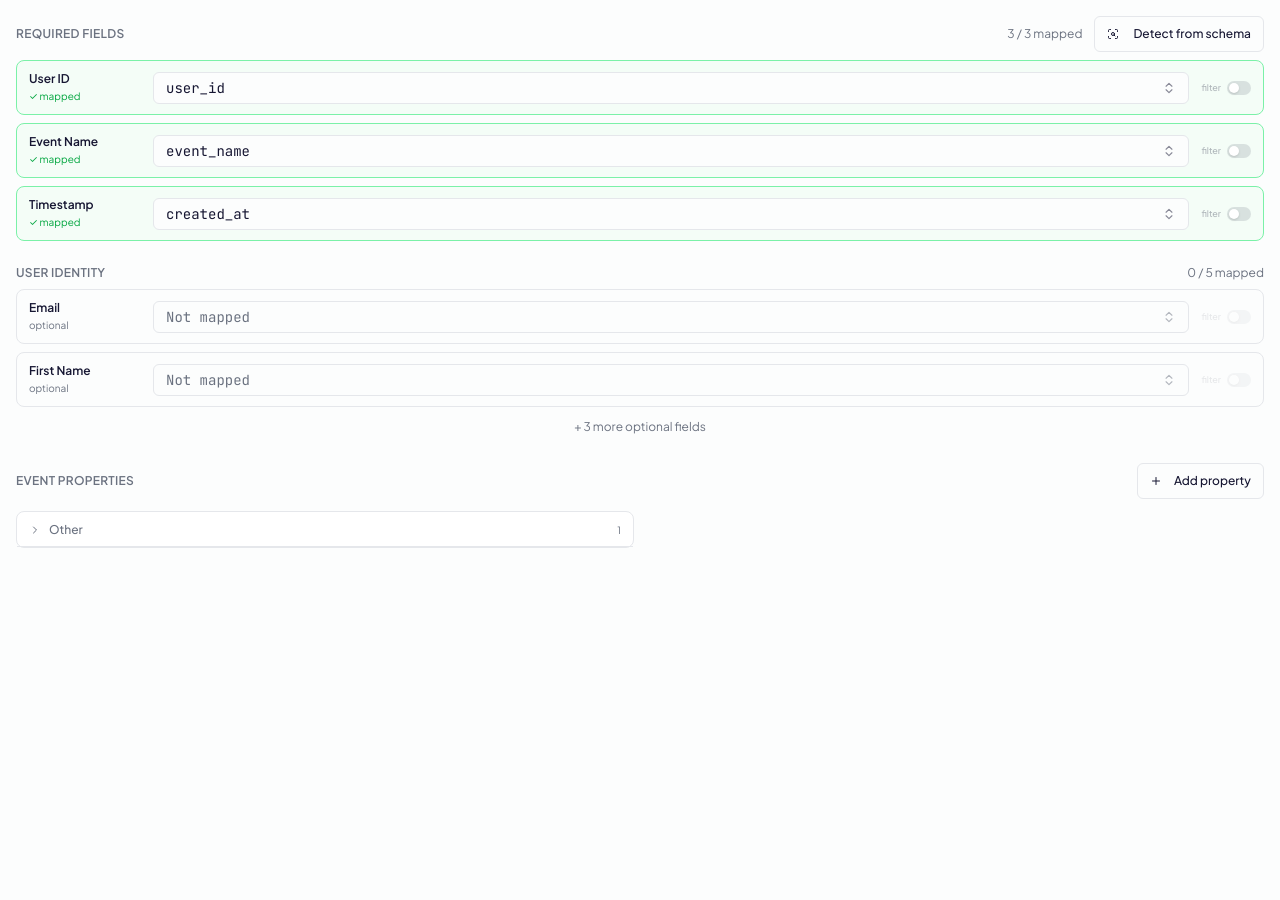
it: FieldMapStep › renders props with no category in an "Other" card (collapsed by default)
Collapsed by default — expand it first
Click the text "Other": (66, 530) x1=49 y1=522 x2=83 y2=538
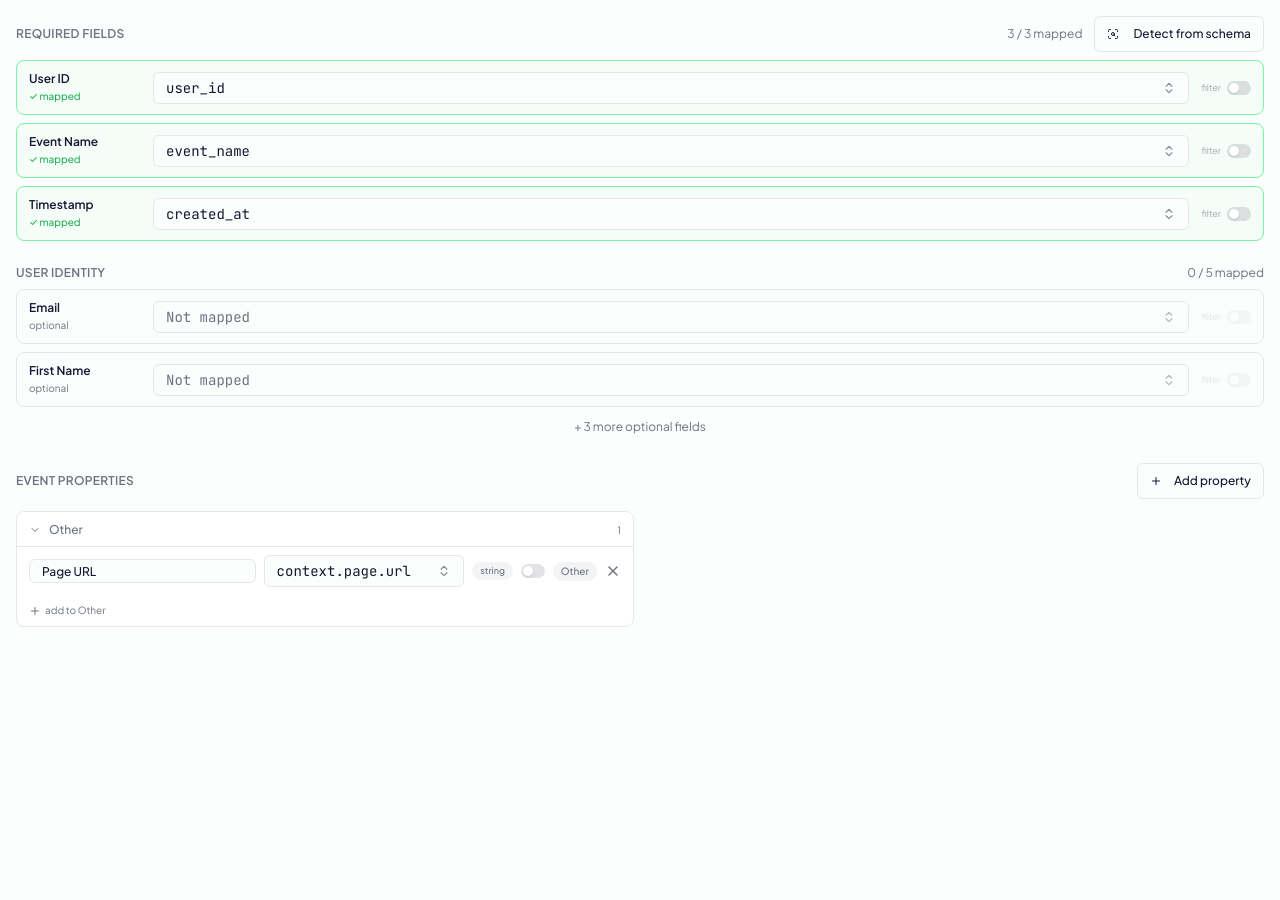
Expected: the field showing "Page URL" is shown, x1=29 y1=559 x2=256 y2=583
Expected: the button "add to Other" is shown, x1=17 y1=595 x2=633 y2=626
